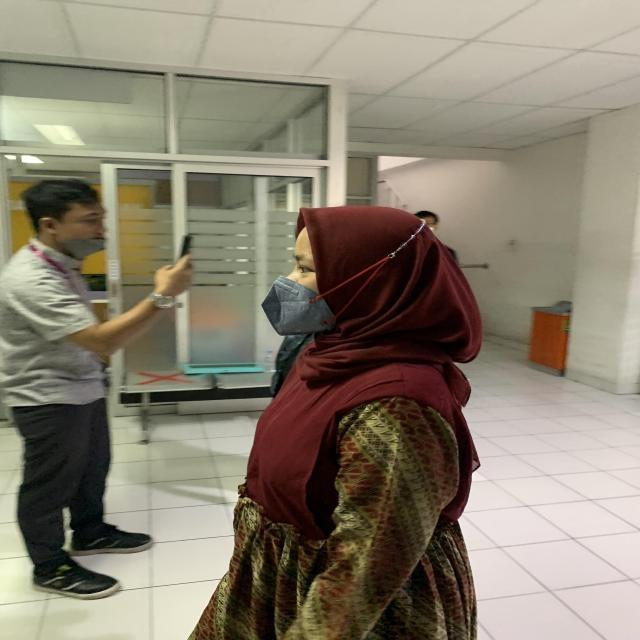hairnet: (20, 172, 110, 262)
